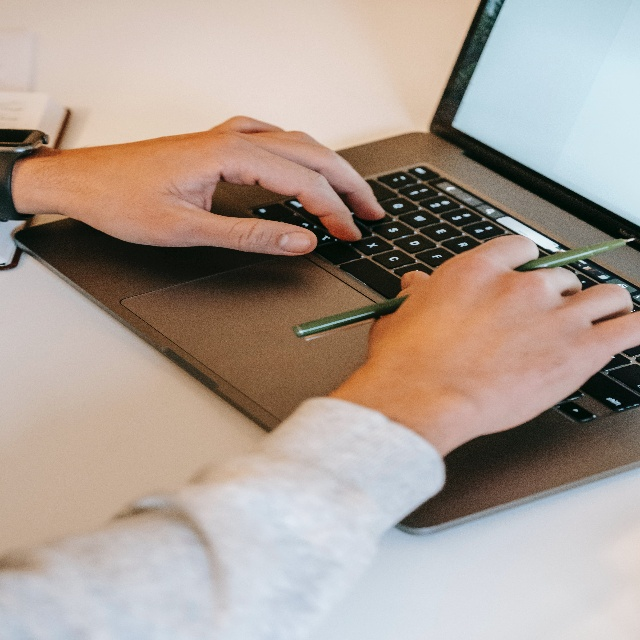Sin_guantes: (365, 228, 640, 426), (40, 108, 386, 264)
